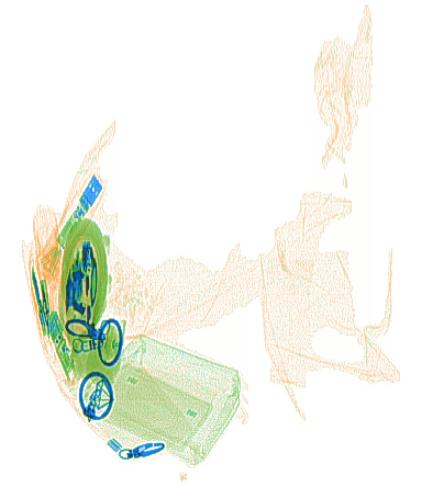USBFlashDisk: (55, 174, 106, 247), (46, 312, 76, 375)
